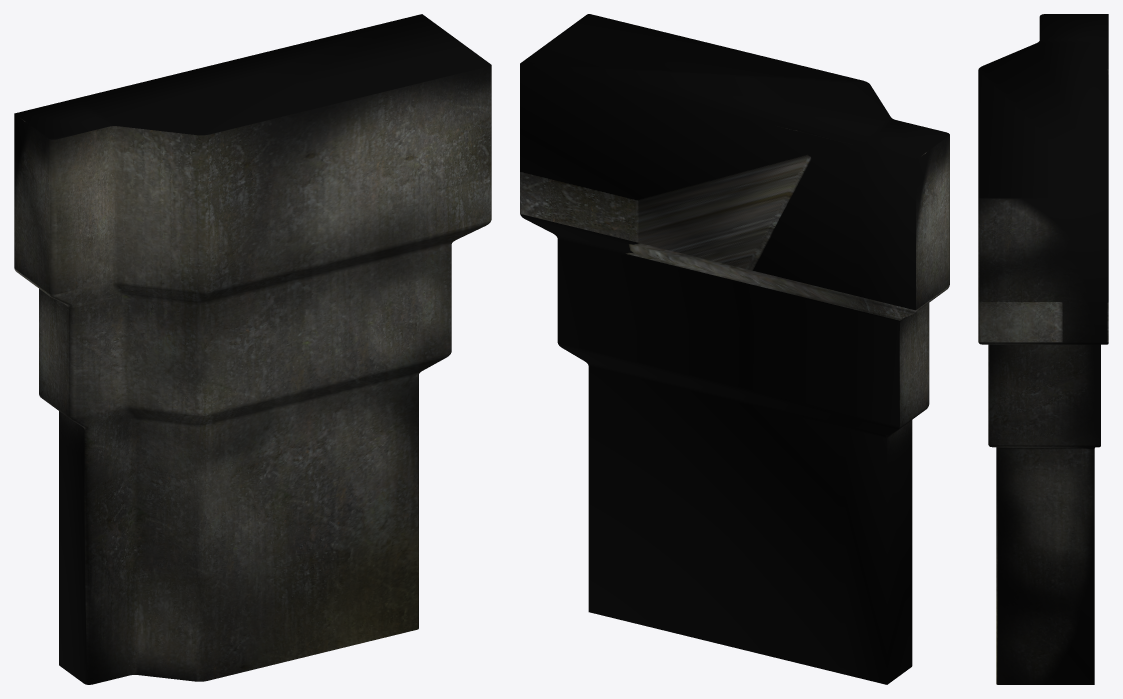
The model's file is Building wall 1.fbx.
3 views of the same model, side by side, from view 1: azimuth 30°, elevation 25°; view 2: azimuth 150°, elevation 25°; view 3: azimuth 270°, elevation 25° (orthographic). The views are drawn at different scales.
Parts seen in each view (by area): view 1: Cube.015; view 2: Cube.015; view 3: Cube.015.
Part boxes in pixels (x1,y1,x2,y2): Cube.015: (14, 14, 491, 684); Cube.015: (520, 14, 949, 684); Cube.015: (978, 14, 1108, 684).
Bounding box in the file's own units: 292 × 381 × 87.32.
